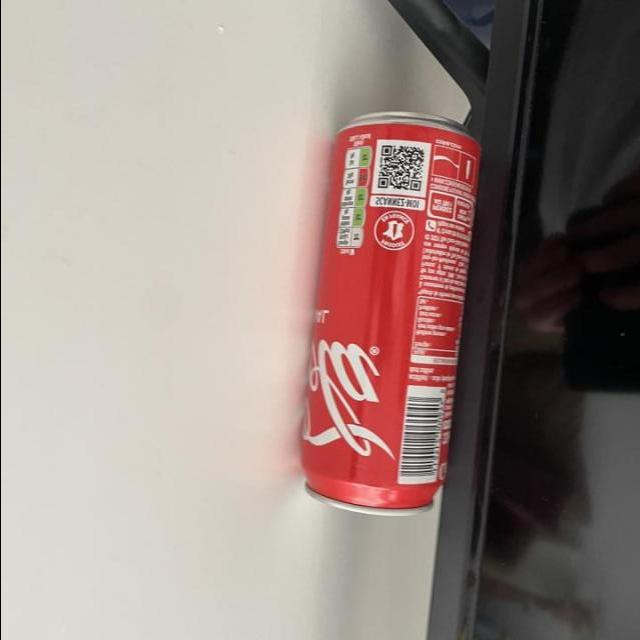can: (290, 101, 482, 528)
